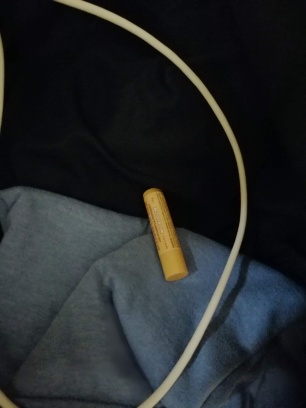chapstick: (142, 186, 190, 283)
